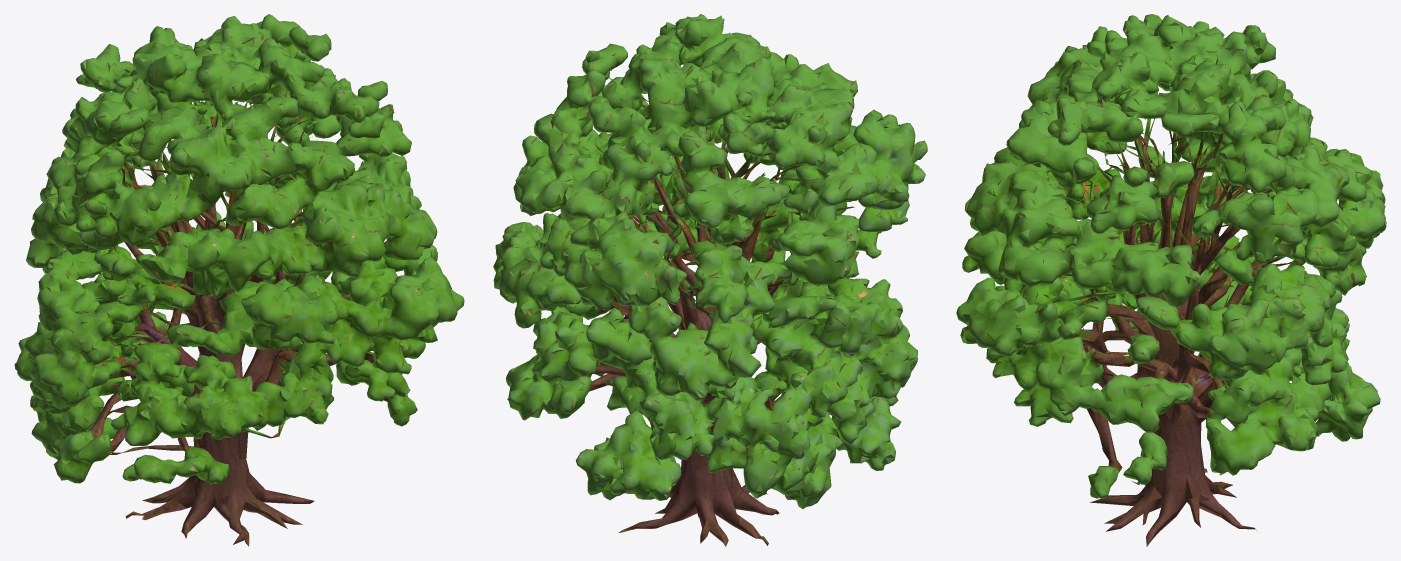
File: mature-temperate-oak-meshy6-r1.glb
3 renders of one model, left to right at view 1: azimuth 30°, elevation 25°; view 2: azimuth 150°, elevation 25°; view 3: azimuth 270°, elevation 25°, orthographic.
Parts seen in each view (by area): view 1: Mesh_0.001; view 2: Mesh_0.001; view 3: Mesh_0.001.
Boxes of the visible parts, x1=… form: Mesh_0.001: x1=14, y1=14, x2=464, y2=546; Mesh_0.001: x1=493, y1=14, x2=927, y2=546; Mesh_0.001: x1=956, y1=14, x2=1386, y2=546.
Size of the model in its own units: 8.24 by 10 by 8.24.
1 material, 1 textured.
